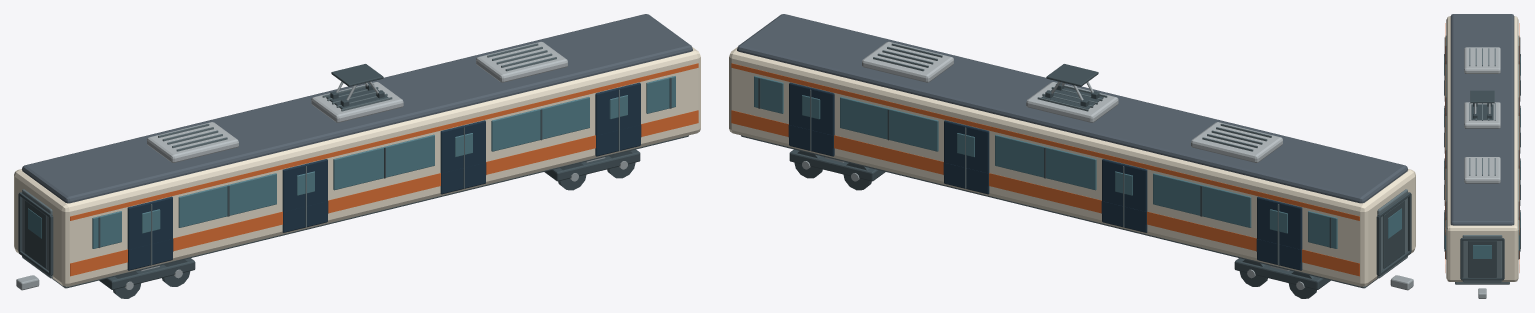
The model's file is original-middle-pantograph.glb.
3 views of the same model, side by side, from view 1: azimuth 30°, elevation 25°; view 2: azimuth 150°, elevation 25°; view 3: azimuth 270°, elevation 25° (orthographic). The views are drawn at different scales.
Parts seen in each view (by area): view 1: body, bogieFront, bogieBack; view 2: body, bogieFront, bogieBack; view 3: body.
Boxes of the visible parts, box(x1,y1,x2,y2) form: body: box(14, 14, 700, 290); bogieFront: box(544, 149, 640, 190); bogieBack: box(99, 258, 195, 298); body: box(729, 14, 1415, 290); bogieFront: box(789, 149, 885, 190); bogieBack: box(1234, 258, 1330, 298); body: box(1444, 14, 1520, 298).
Bounding box in the file's own units: 21 × 4.48 × 3.02.
